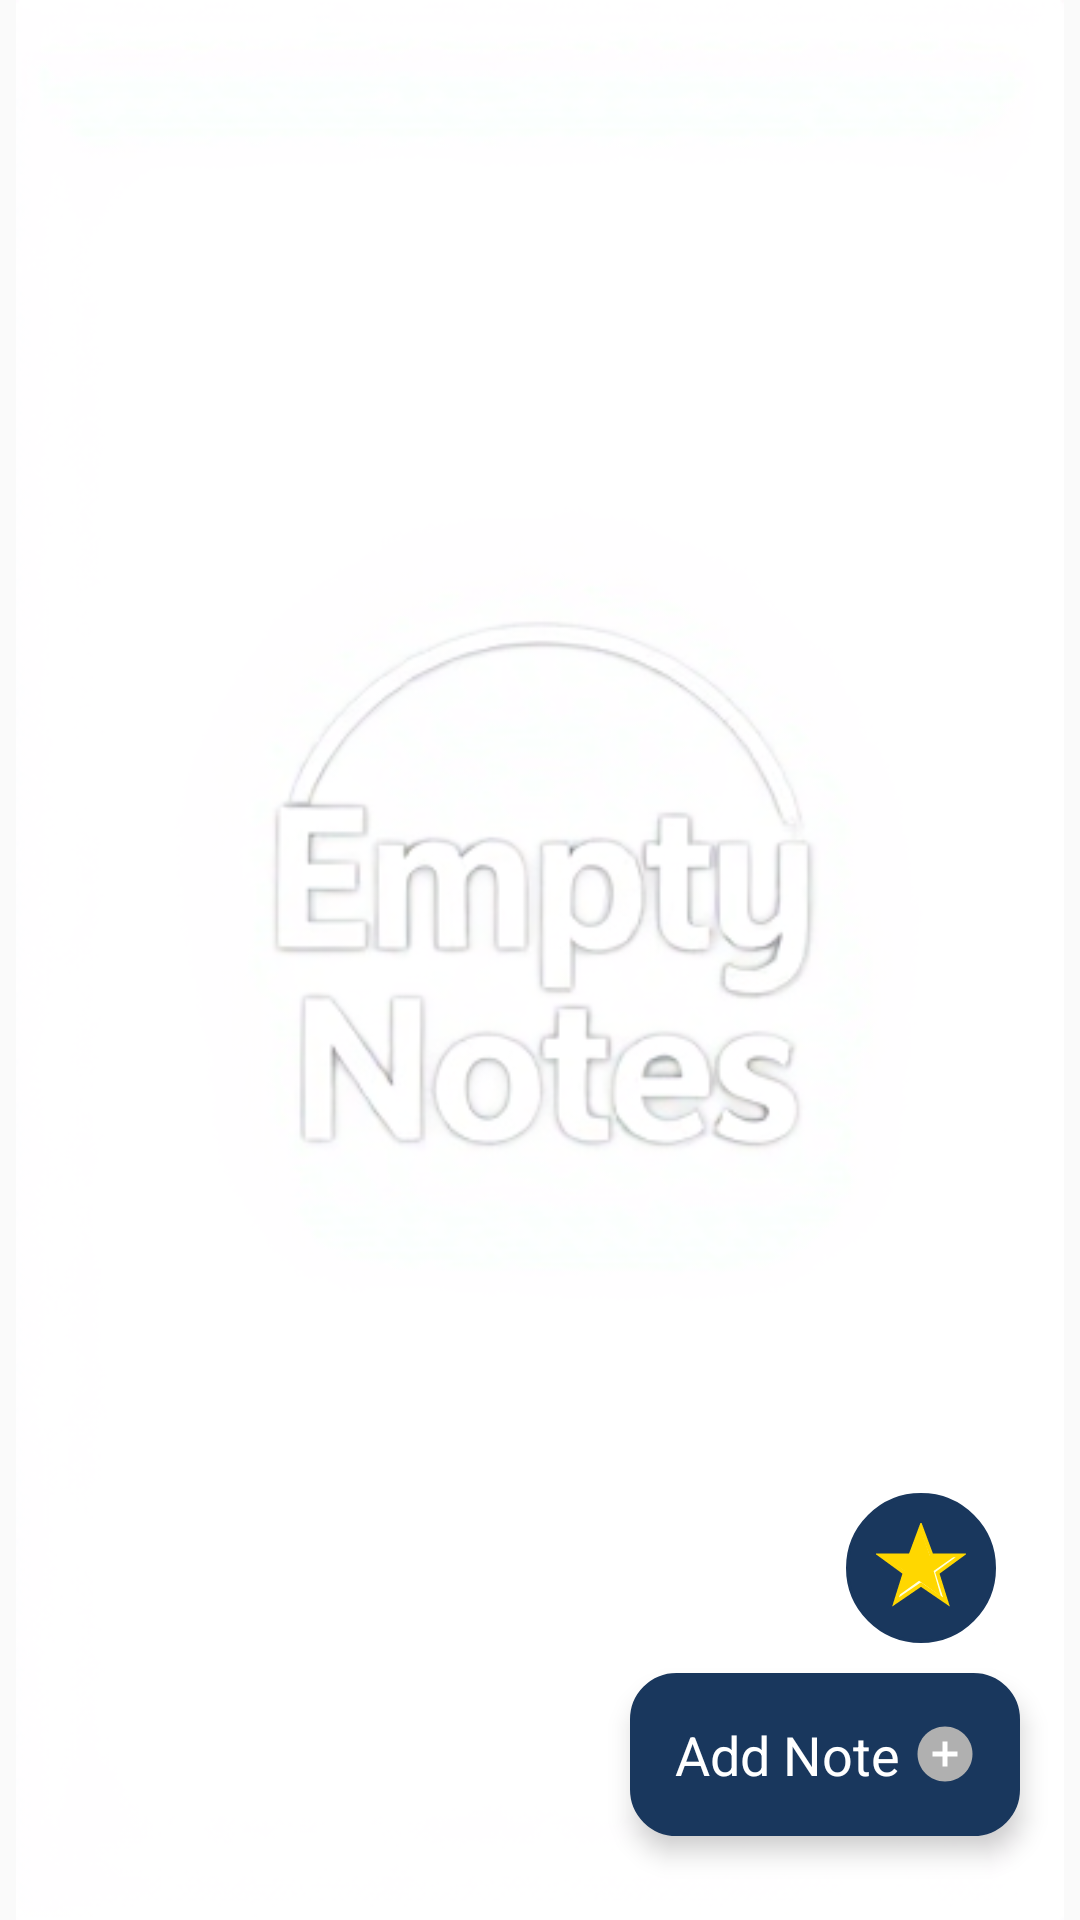

Where icons sit on this 1080px×1920px app screen, as [x1, y1, x2, y2]:
home star: [846, 1493, 996, 1643]
